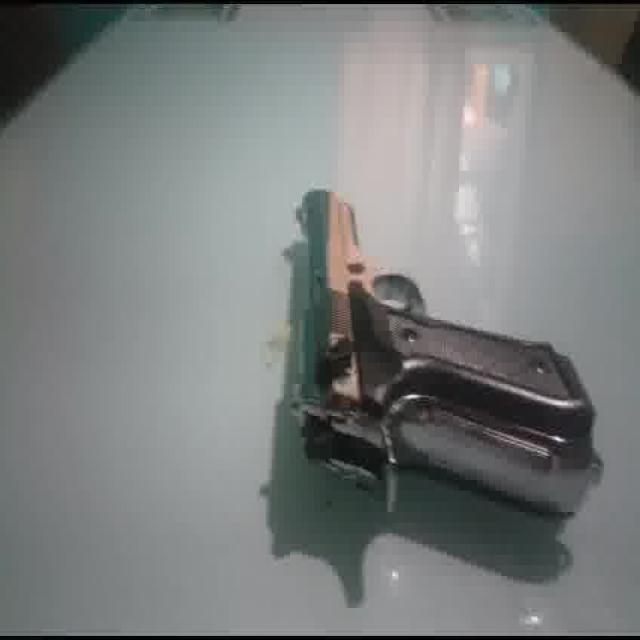weapon: (279, 186, 602, 517)
